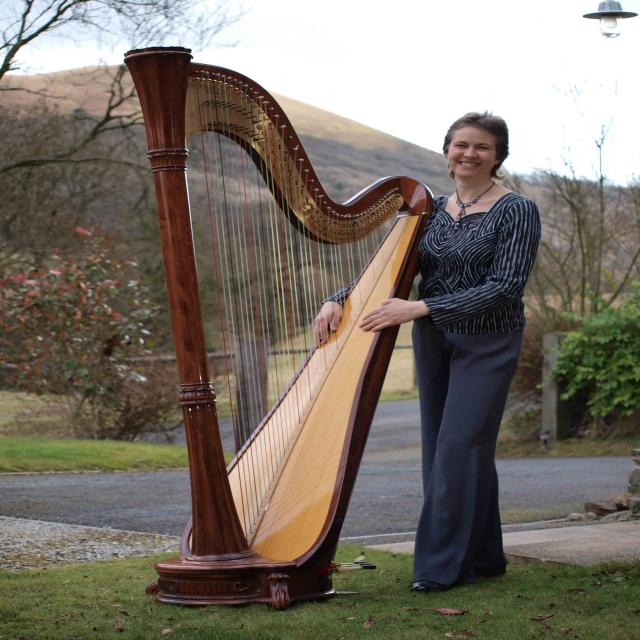harp: (115, 43, 432, 610)
